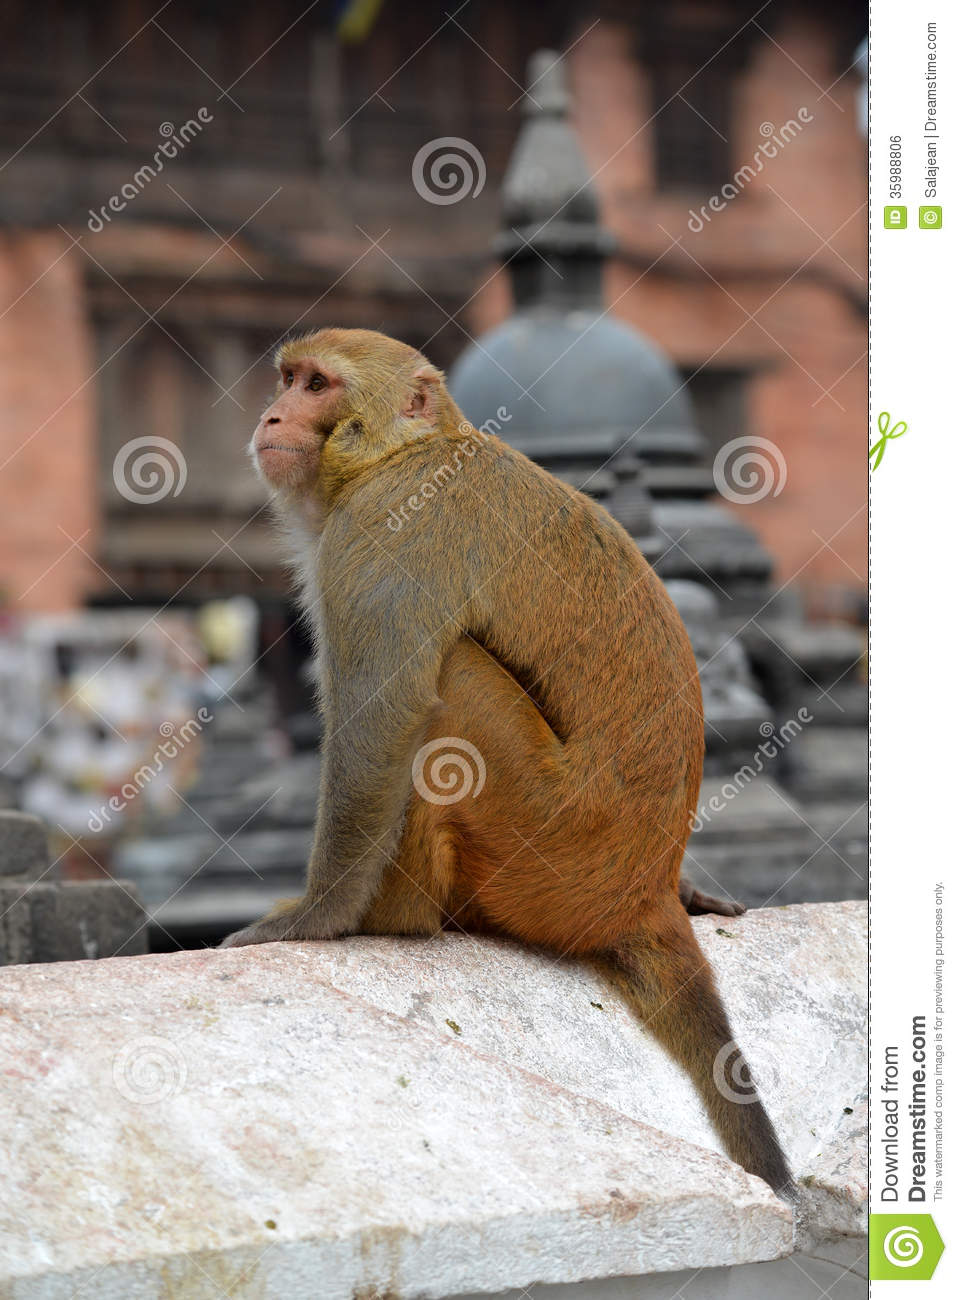monkey: (190, 256, 836, 1260)
